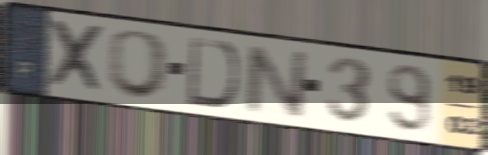3: (322, 55, 373, 126)
9: (385, 63, 434, 135)
D: (184, 34, 242, 111)
N: (243, 41, 309, 122)
O: (103, 27, 174, 102)
X: (45, 16, 109, 97)
